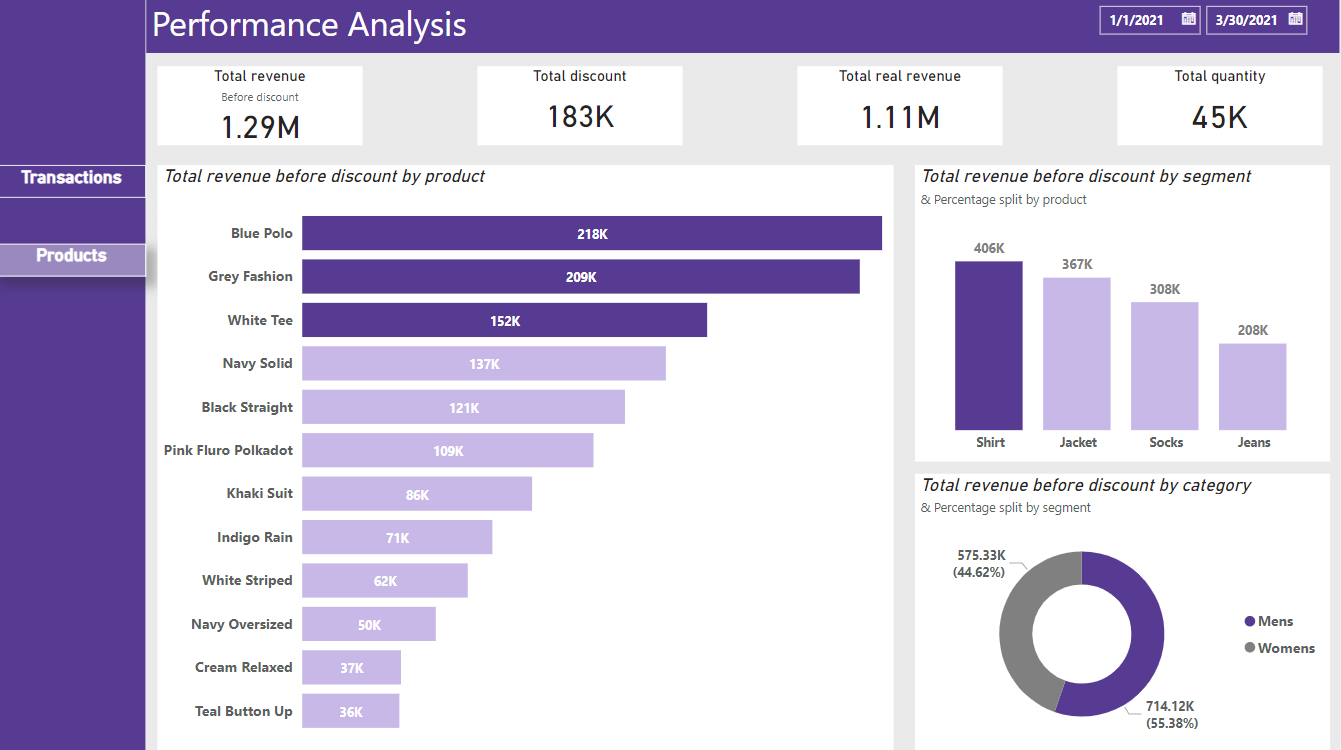

The page's visual inventory and layout, read from the dashboard file:
{"tool":"powerbi","page":{"name":"Page 2","canvas":[1280,720],"ordinal":1},"visuals":[{"type":"textbox","box":[0,0,143.5,720],"z":0},{"type":"textbox","box":[143.5,0,1136.1,55.5],"z":1000},{"type":"actionButton","title":"Transactions","box":[0,161.9,144,30.9],"z":2000},{"type":"actionButton","title":"Products","box":[0,236.8,144,30.9],"z":3000},{"type":"slicer","title":"MONTH","fields":{"Values":["sales.start_txn_time"]},"box":[1038.9,0,224.9,46.4],"z":4000},{"type":"card","title":"Total revenue","fields":{"Values":["Sum(sales.Revenue_before_discount)"]},"box":[154.7,67.8,195,75],"z":5000},{"type":"card","title":"Total discount","fields":{"Values":["Sum(sales.discount)"]},"box":[459.4,67.8,195,75],"z":6000},{"type":"card","title":"Total quantity","fields":{"Values":["Sum(sales.qty)"]},"box":[1068.7,67.8,195,75],"z":7000},{"type":"card","title":"Total real revenue","fields":{"Values":["Sum(sales.revenue_after_discount)"]},"box":[764,67.8,195,75],"z":8000},{"type":"barChart","title":"Total revenue before discount by product","fields":{"Category":["product_details.style_name"],"Y":["Sum(sales.Revenue_before_discount)"]},"box":[154.7,161.9,701,558.1],"z":9000},{"type":"columnChart","title":"Total revenue before discount by segment","fields":{"Category":["product_details.segment_name"],"Y":["Sum(sales.Revenue_before_discount)"]},"box":[875.9,161.9,395.1,282],"z":10000},{"type":"donutChart","title":"Total revenue before discount by category","fields":{"Category":["product_details.category_name"],"Y":["Sum(sales.Revenue_before_discount)"]},"box":[875.9,455.8,395.1,264.2],"z":11000}]}

Visuals, with their boxes in screenshot pixels (x1, y1, x2, y2), scaled from the page's 1280x720 canvas onto the 1341x750 screenshot:
textbox: <region>0, 0, 150, 749</region>
textbox: <region>150, 0, 1340, 58</region>
"Transactions" actionButton: <region>0, 169, 151, 201</region>
"Products" actionButton: <region>0, 247, 151, 279</region>
"MONTH" slicer: <region>1088, 0, 1324, 48</region>
"Total revenue" card: <region>162, 71, 366, 149</region>
"Total discount" card: <region>481, 71, 686, 149</region>
"Total quantity" card: <region>1120, 71, 1324, 149</region>
"Total real revenue" card: <region>800, 71, 1005, 149</region>
"Total revenue before discount by product" barChart: <region>162, 169, 896, 749</region>
"Total revenue before discount by segment" columnChart: <region>918, 169, 1332, 462</region>
"Total revenue before discount by category" donutChart: <region>918, 475, 1332, 749</region>
